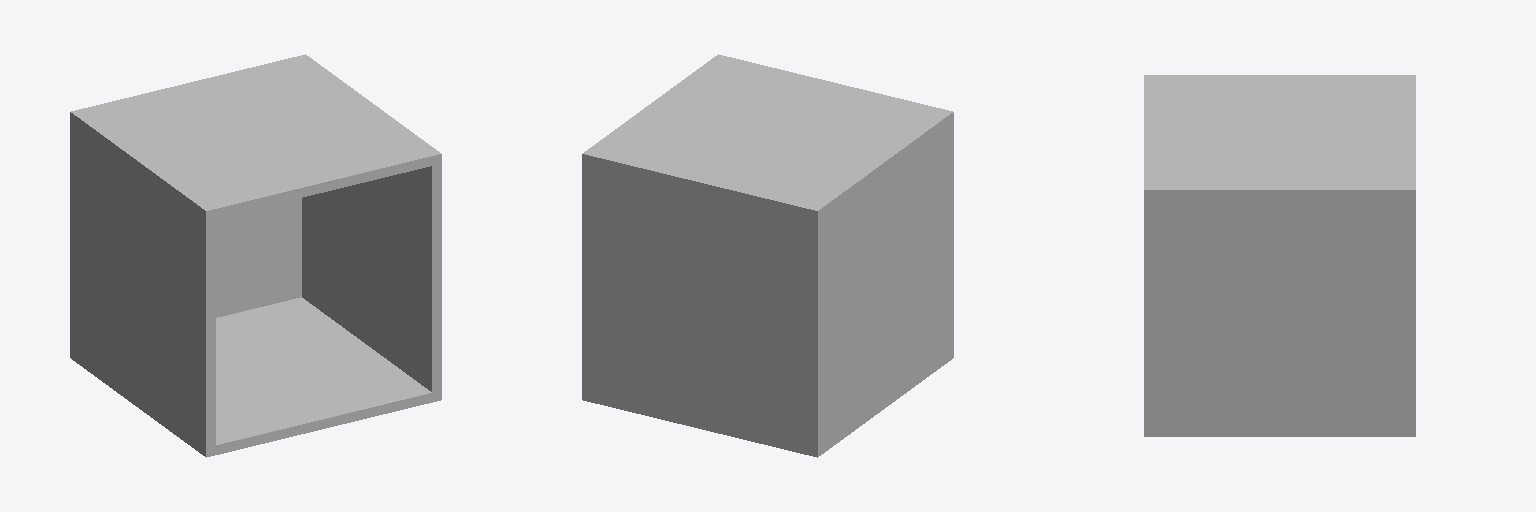
The model's file is coridor_end.obj.
3 views of the same model, side by side, from view 1: azimuth 30°, elevation 25°; view 2: azimuth 150°, elevation 25°; view 3: azimuth 270°, elevation 25° (orthographic).
Visible parts, largest first — view 1: pillar, ceiling, Wall, floor, wall; view 2: wall, pillar, ceiling, Wall, floor; view 3: Wall, ceiling, wall.
Boxes of the visible parts, box(x1,y1,x2,y2) form: pillar: box(70, 109, 215, 456); ceiling: box(71, 55, 441, 220); Wall: box(297, 54, 441, 400); floor: box(70, 297, 441, 457); wall: box(70, 56, 304, 360); wall: box(582, 152, 822, 456); pillar: box(808, 111, 953, 453); ceiling: box(583, 55, 953, 218); Wall: box(582, 54, 726, 400); floor: box(584, 351, 953, 457); Wall: box(1144, 186, 1415, 436); ceiling: box(1144, 75, 1415, 199); wall: box(1405, 76, 1415, 436).
Bounding box in the file's own units: 5 × 5 × 5.